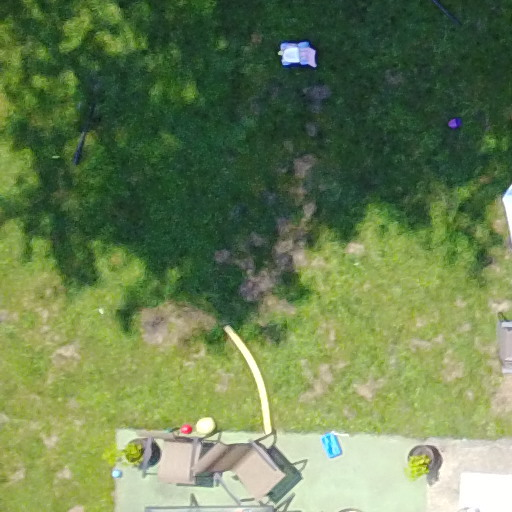flower pot: (102, 423, 165, 484), (399, 436, 459, 494)
toy: (270, 33, 329, 73), (322, 429, 346, 461), (176, 420, 200, 439), (447, 115, 466, 134), (111, 465, 128, 481)
